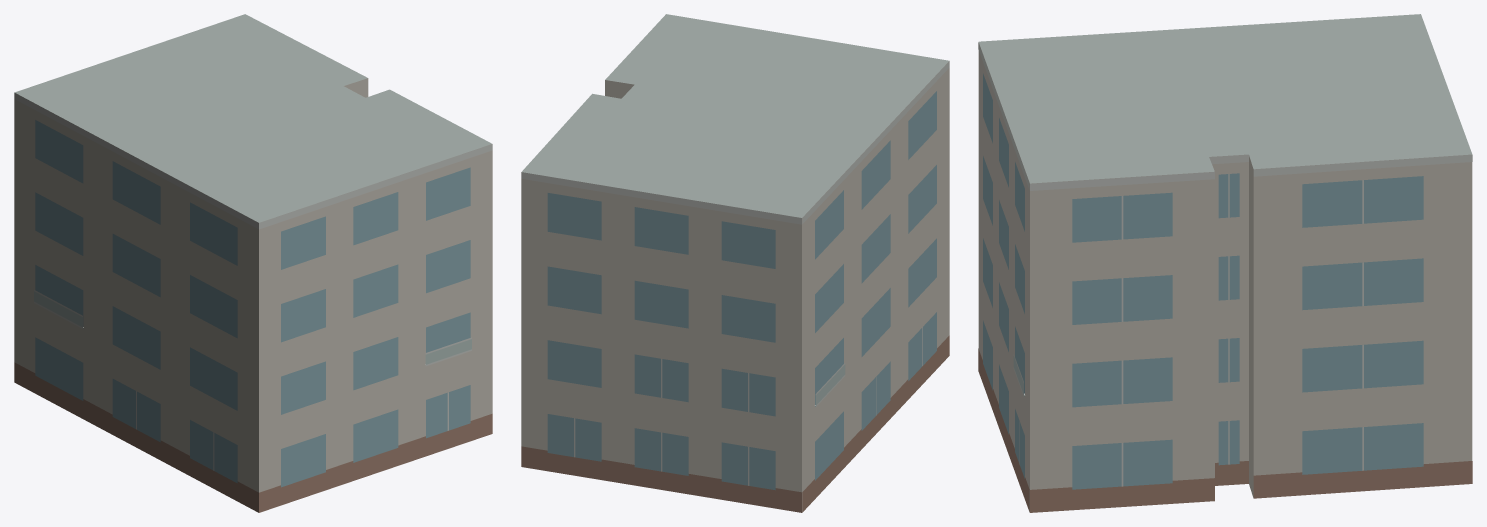
Rendered from survey-upis-32605373.glb.
3 renders of one model, left to right at view 1: azimuth 30°, elevation 25°; view 2: azimuth 150°, elevation 25°; view 3: azimuth 270°, elevation 25°, orthographic. The views are drawn at different scales.
Parts seen in each view (by area): view 1: survey-upis-32605373.tmp; view 2: survey-upis-32605373.tmp; view 3: survey-upis-32605373.tmp.
Boxes of the visible parts, box(x1,y1,x2,y2) form: survey-upis-32605373.tmp: box(14, 14, 492, 512); survey-upis-32605373.tmp: box(521, 14, 949, 512); survey-upis-32605373.tmp: box(978, 14, 1472, 512).
Size of the model in its own units: 11.88 by 10.75 by 14.63.
